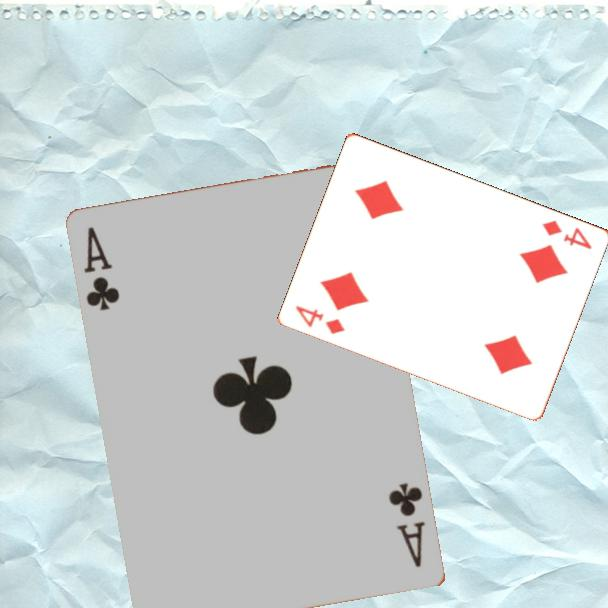c01: (386, 479, 429, 571), (81, 223, 123, 314)
d04: (539, 216, 595, 252), (292, 302, 348, 337)
